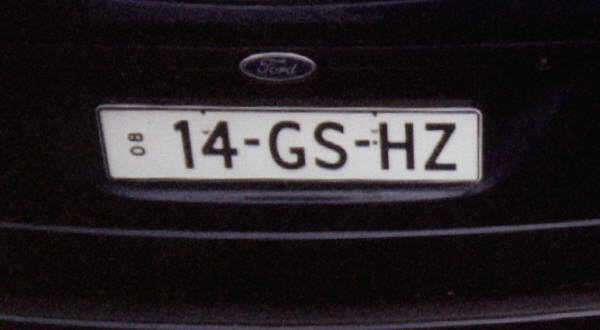license_plate: (93, 104, 482, 183)
